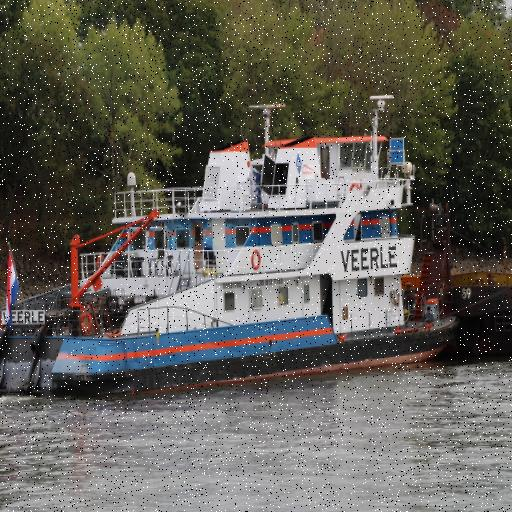tugboat: (1, 91, 465, 436)
